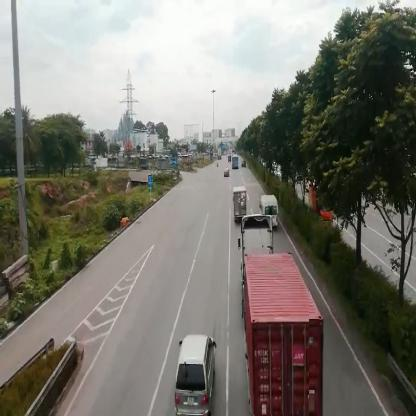bus: (233, 158, 240, 171)
car: (177, 339, 217, 416), (261, 195, 280, 217), (226, 170, 233, 178), (243, 161, 247, 169)
container: (245, 217, 310, 416)
truck: (234, 187, 249, 218), (159, 157, 171, 171), (117, 157, 129, 170), (95, 159, 109, 170), (140, 157, 149, 172)
